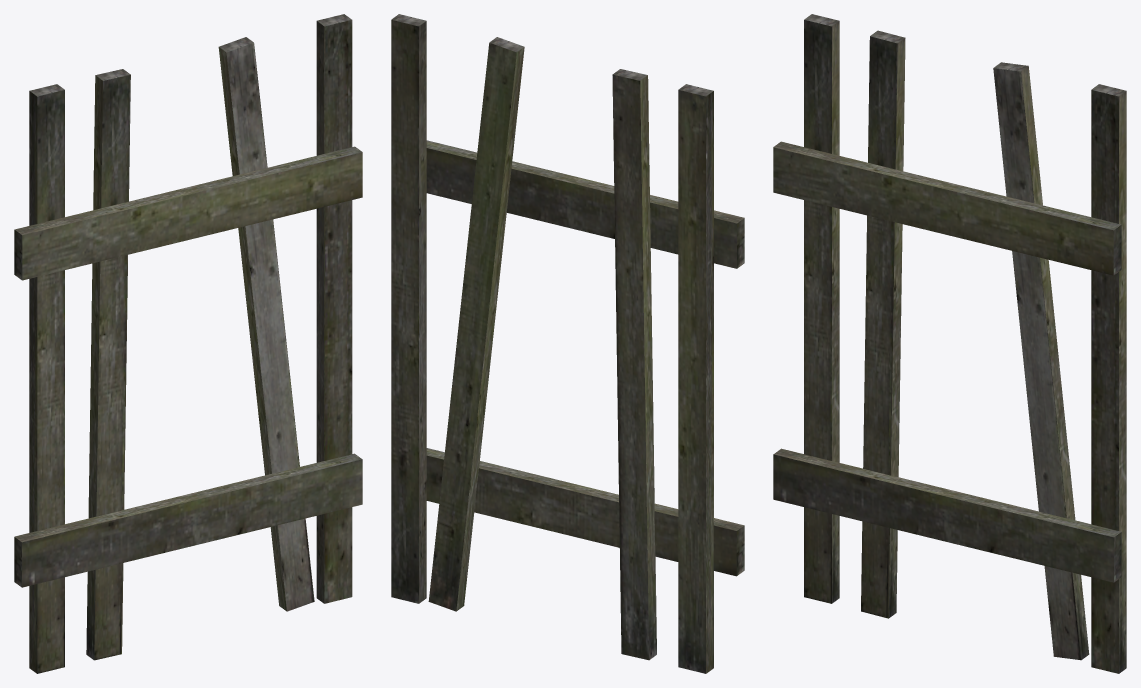
File: fence4.obj
3 views of the same model, side by side, from view 1: azimuth 30°, elevation 25°; view 2: azimuth 150°, elevation 25°; view 3: azimuth 330°, elevation 25° (orthographic).
Parts seen in each view (by area): view 1: 0; view 2: 0; view 3: 0.
Part boxes in pixels (<box>): 0: <box>14,14,362,673</box>; 0: <box>391,14,744,673</box>; 0: <box>773,14,1126,673</box>.
Bounding box in the file's own units: 1 × 1.63 × 0.0806.
